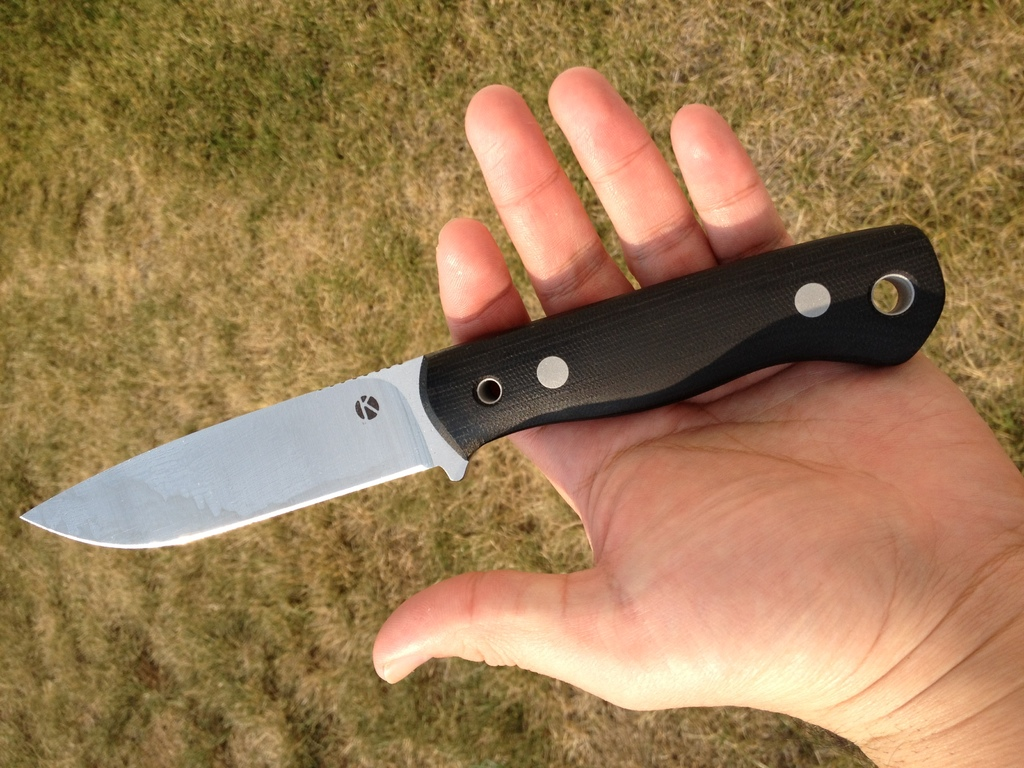knife: (19, 223, 945, 548)
